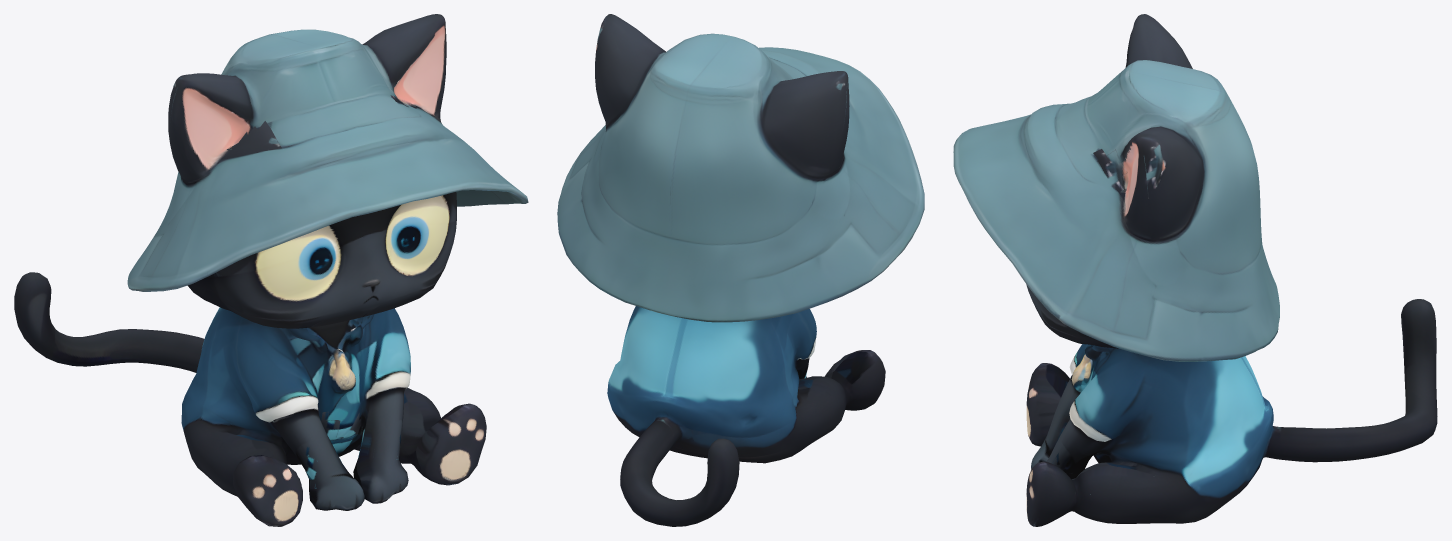
File: krams.glb
The picture shows the model from 3 angles, left to right: view 1: azimuth 30°, elevation 25°; view 2: azimuth 150°, elevation 25°; view 3: azimuth 270°, elevation 25°; orthographic projection. The views are drawn at different scales.
Visible parts, largest first — view 1: model; view 2: model; view 3: model.
Boxes of the visible parts, left/top/right/bottom form: model: left=14, top=14, right=528, bottom=526; model: left=557, top=14, right=924, bottom=526; model: left=953, top=14, right=1437, bottom=526.
Bounding box in the file's own units: 1.39 × 1.55 × 1.64.
1 material, 1 textured.
